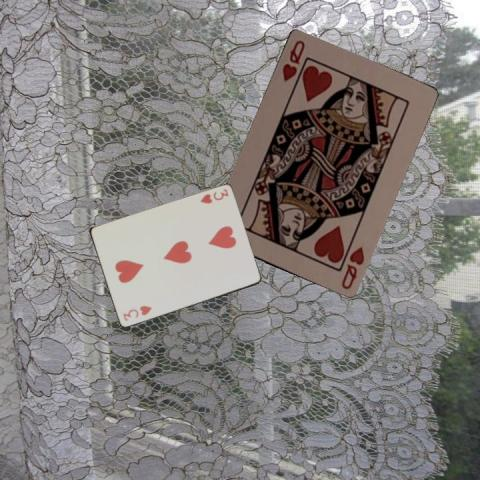3h: (120, 302, 153, 322), (198, 186, 229, 205)
Qh: (339, 243, 366, 292), (279, 38, 307, 84)
